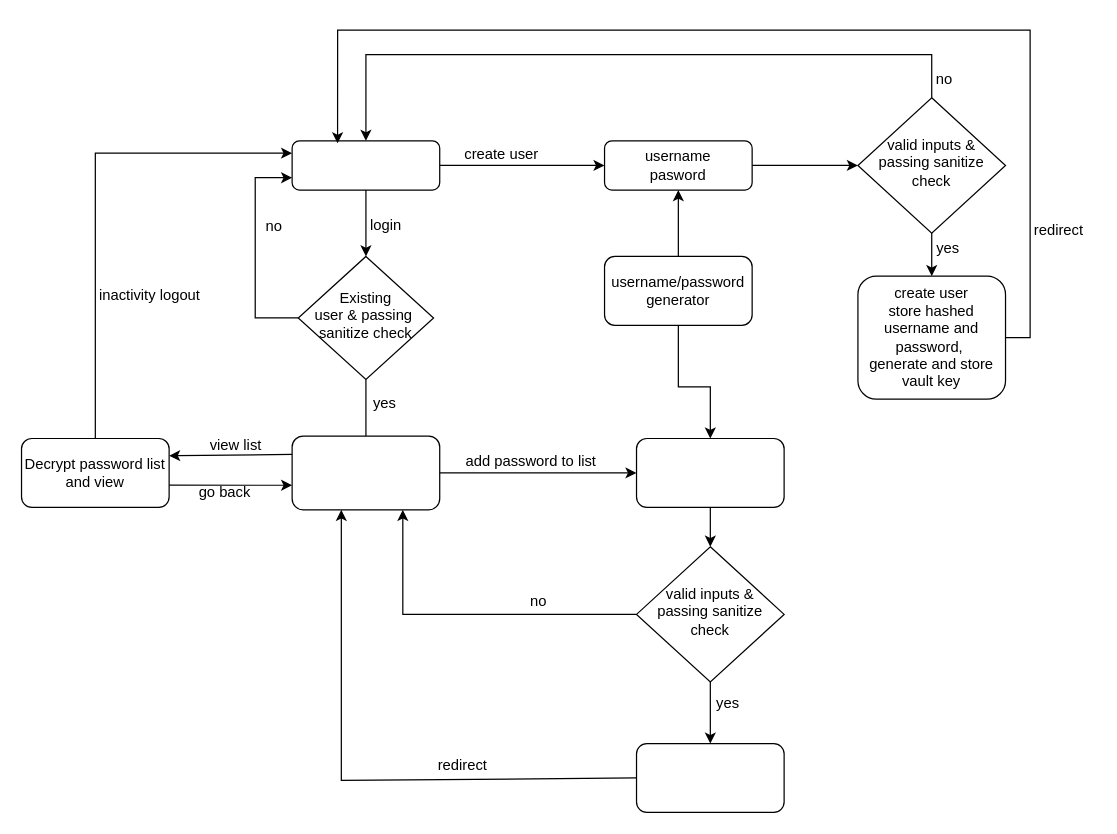
The diagram is 1117 pixels wide and 834 high, and some of its shapes have lost their labels. The shapes that lost their labels are listed below. From the top down, each one's centre as x and y in pixels, then its label:
At point (365, 165): "login create user".
At point (365, 472): "add password to list view list".
At point (709, 472): "password manger inputs".
At point (709, 777): "encrypt and store inputs".
